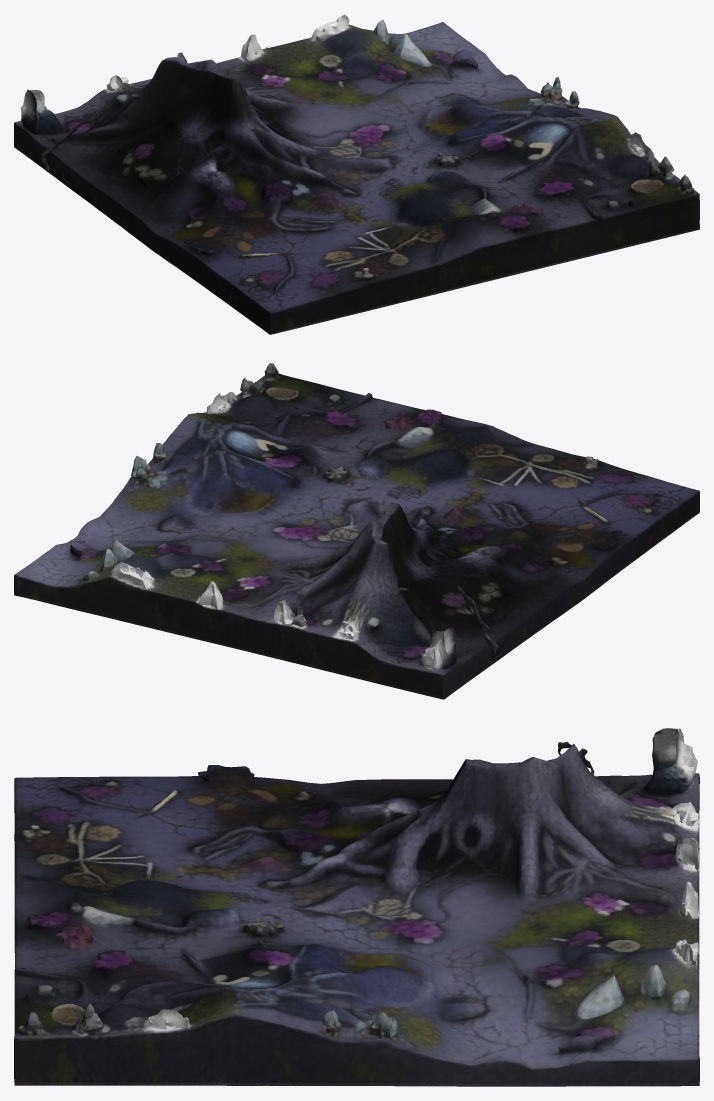
The model's file is spoorygroundtexture.glb.
3 views of the same model, one above another, from view 1: azimuth 30°, elevation 25°; view 2: azimuth 150°, elevation 25°; view 3: azimuth 270°, elevation 25° (orthographic). The views are drawn at different scales.
Parts seen in each view (by area): view 1: mesh; view 2: mesh; view 3: mesh.
Part boxes in pixels (x1,y1,x2,y2): mesh: (14, 14, 699, 334); mesh: (14, 363, 699, 699); mesh: (14, 728, 699, 1086).
Size of the model in its own units: 0.9972 by 0.2207 by 1.
Materials: 1 (1 with a texture image).
